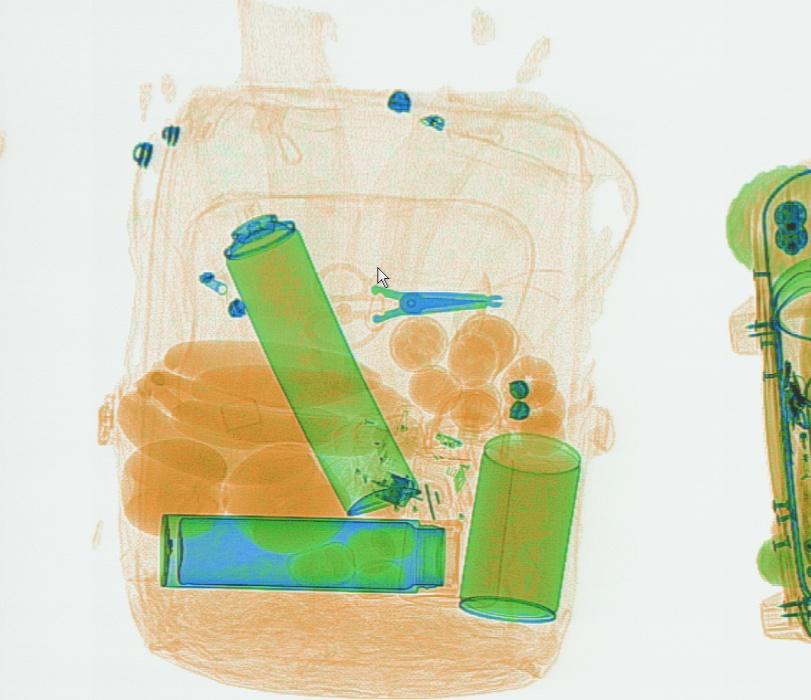pressure: (217, 198, 415, 518)
scissors: (302, 262, 499, 350)
